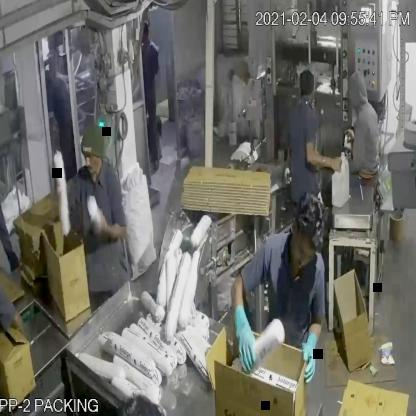glove: (226, 288, 262, 381), (296, 328, 319, 396)
no_glove: (78, 201, 135, 252), (301, 139, 345, 181)
